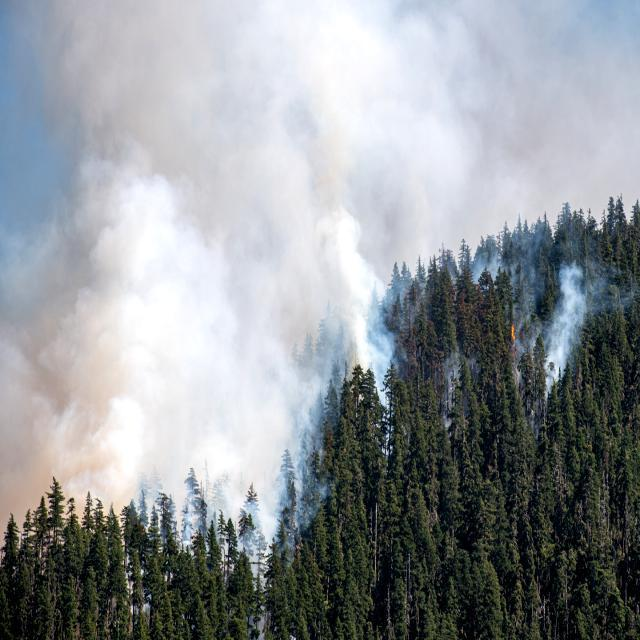Smoke: (0, 0, 536, 583), (534, 255, 600, 396)
